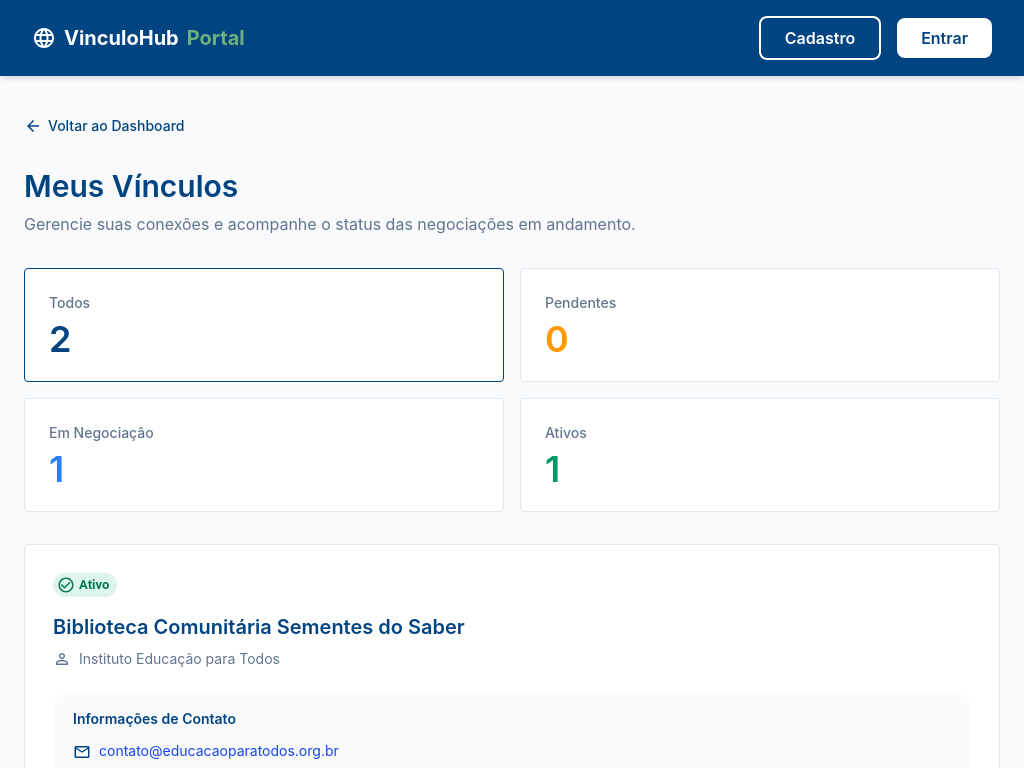
it: MyRelationshipsPage › filtra os vínculos ao clicar em Em Negociação
The width and height of the screenshot is (1024, 768).
Check: the heading "Biblioteca Comunitária Sementes do Saber" is shown, box left=53, top=615, right=465, bottom=639
Click the button "Em Negociação 1" at (101, 432), box left=25, top=399, right=503, bottom=511
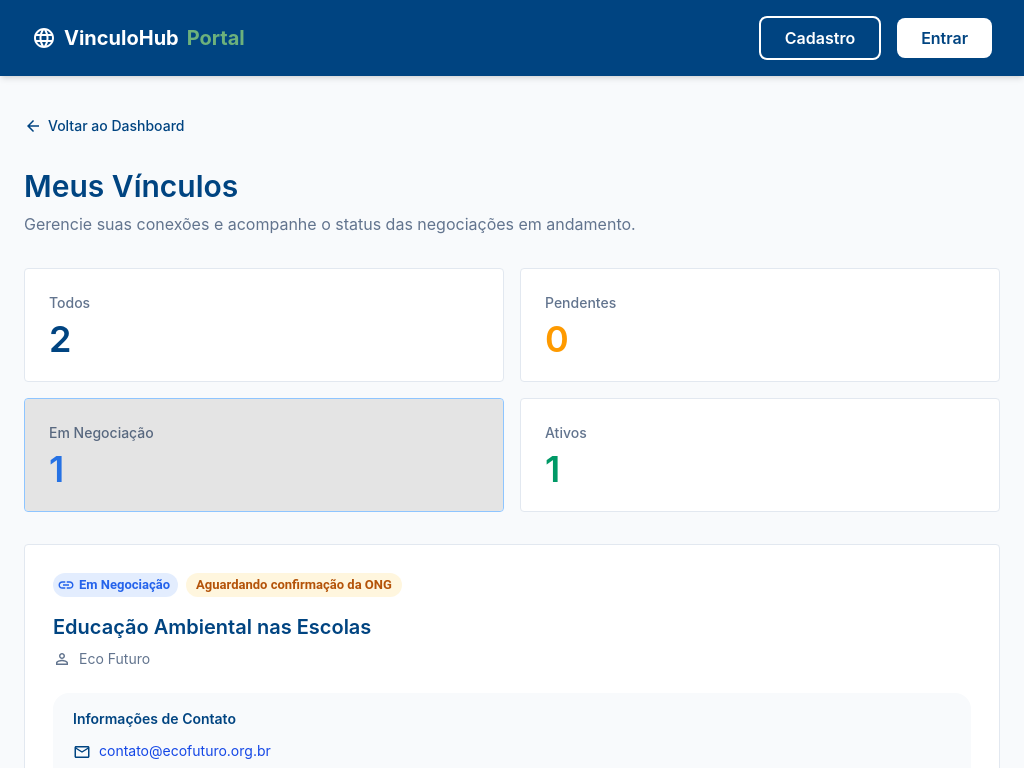
Check: the heading "Educação Ambiental nas Escolas" is shown, box left=53, top=615, right=371, bottom=639
Check: the heading "Biblioteca Comunitária Sementes do Saber" is gone
